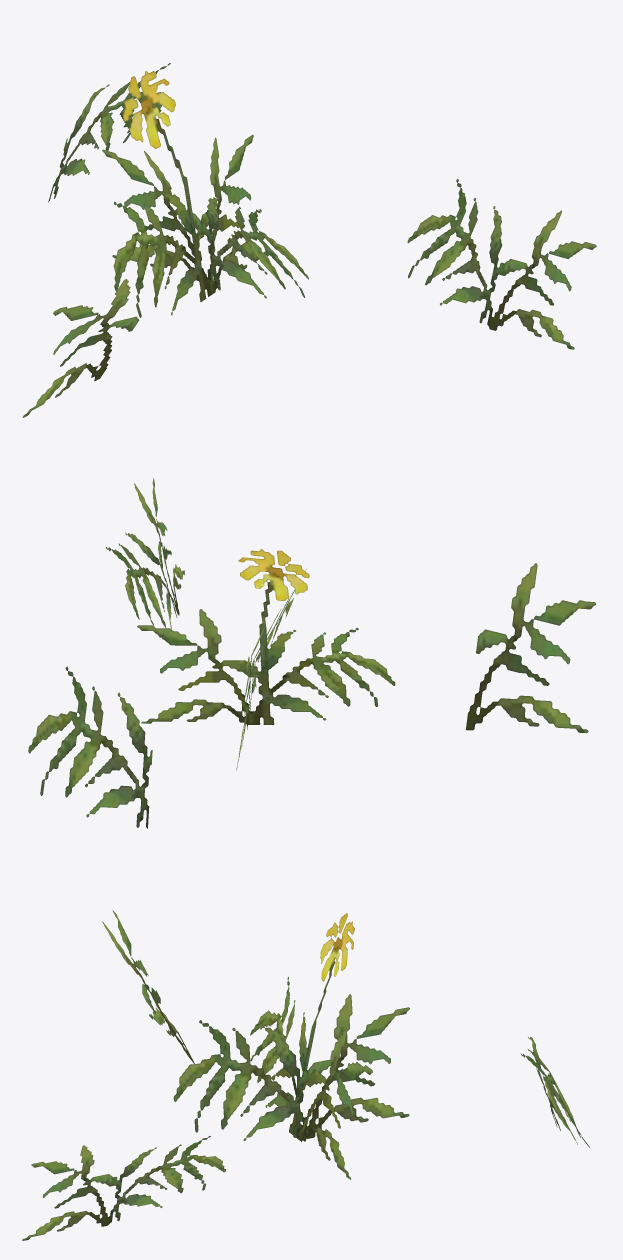
The model's file is grs_flower_02.glb.
3 views of the same model, one above another, from view 1: azimuth 30°, elevation 25°; view 2: azimuth 150°, elevation 25°; view 3: azimuth 270°, elevation 25° (orthographic). The views are drawn at different scales.
Parts seen in each view (by area): view 1: grs_flower_02; view 2: grs_flower_02; view 3: grs_flower_02.
Boxes of the visible parts, x1=… form: grs_flower_02: x1=22, y1=63, x2=596, y2=417; grs_flower_02: x1=28, y1=478, x2=595, y2=828; grs_flower_02: x1=22, y1=910, x2=589, y2=1240.
Size of the model in its own units: 1.91 by 0.7786 by 1.95.
1 material, 1 textured.
